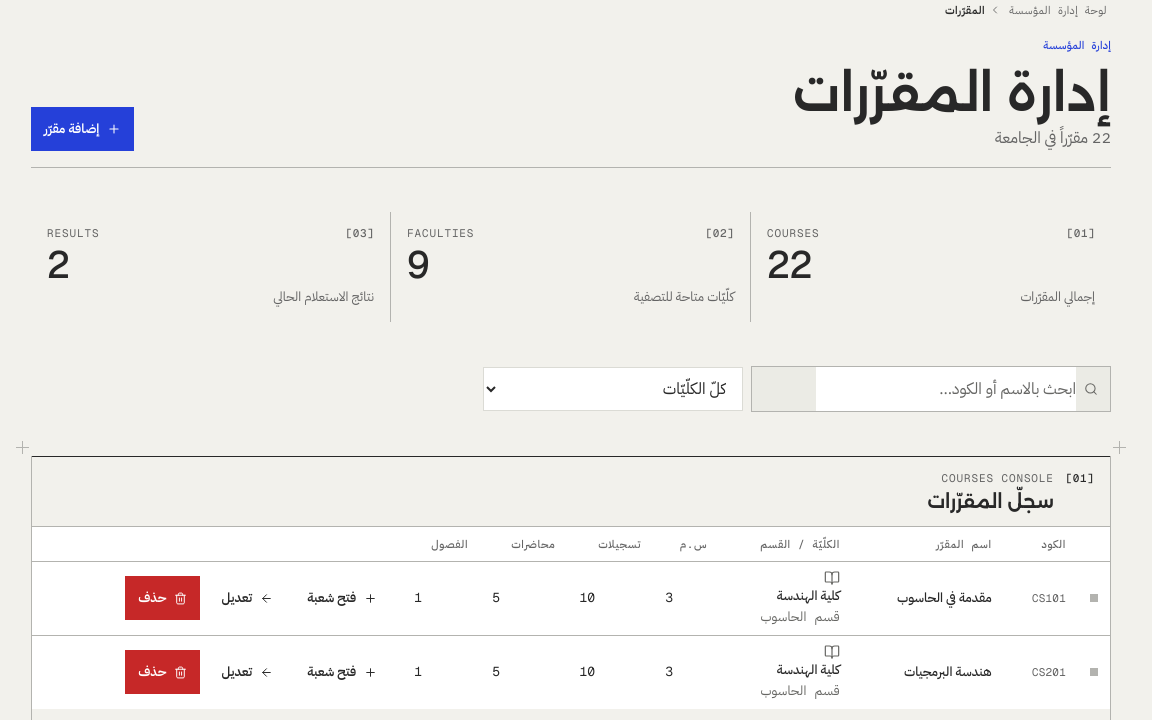
Test: AdminCoursesPage — server-side filters + meta pagination (P2-1) › sends q and facultyId server-side (debounced), and paginates via meta
This screenshot has width=1152, height=720.
Later steps or results of the test are not shown.
Check: the text "مقدمة في الحاسوب" is shown, box [897, 588, 992, 608]
Note: Server-side search (debounce fires inside waitFor's act scope).
Type "zzz" into the search field with placeholder "ابحث بالاسم أو الكود…".
click(946, 389); type("zzz")  # box [816, 367, 1076, 411]
(page scrolled)
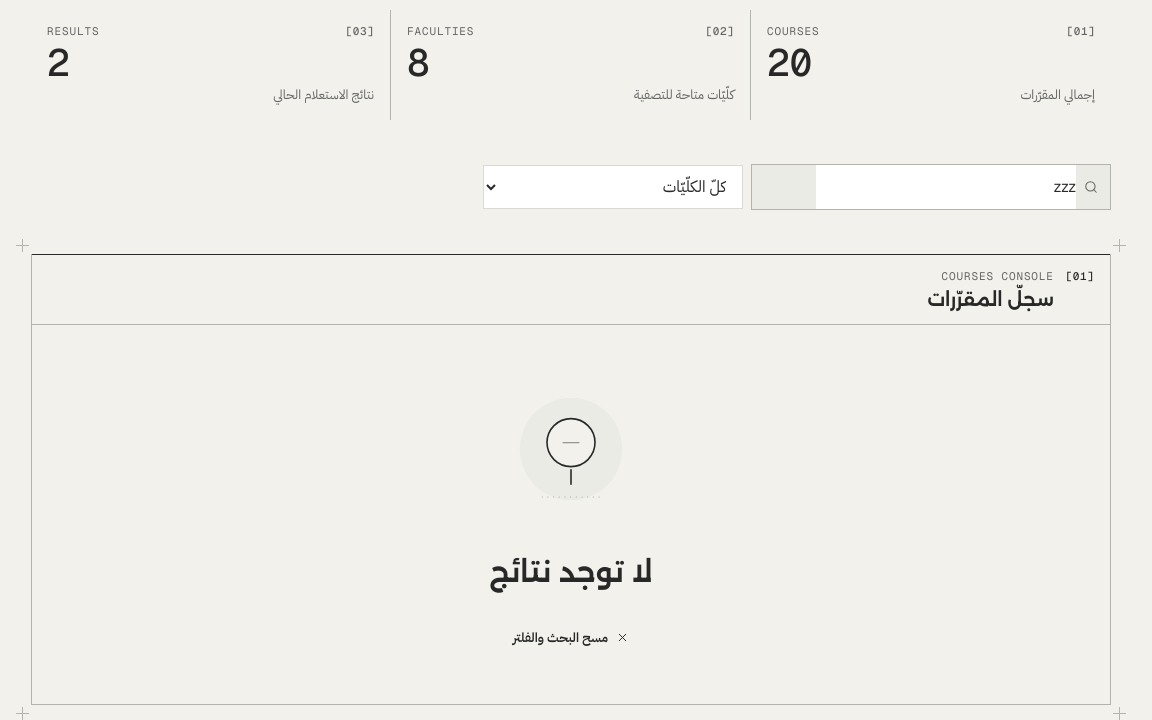
Check: the text "لا توجد نتائج" is shown, box [489, 549, 653, 596]
